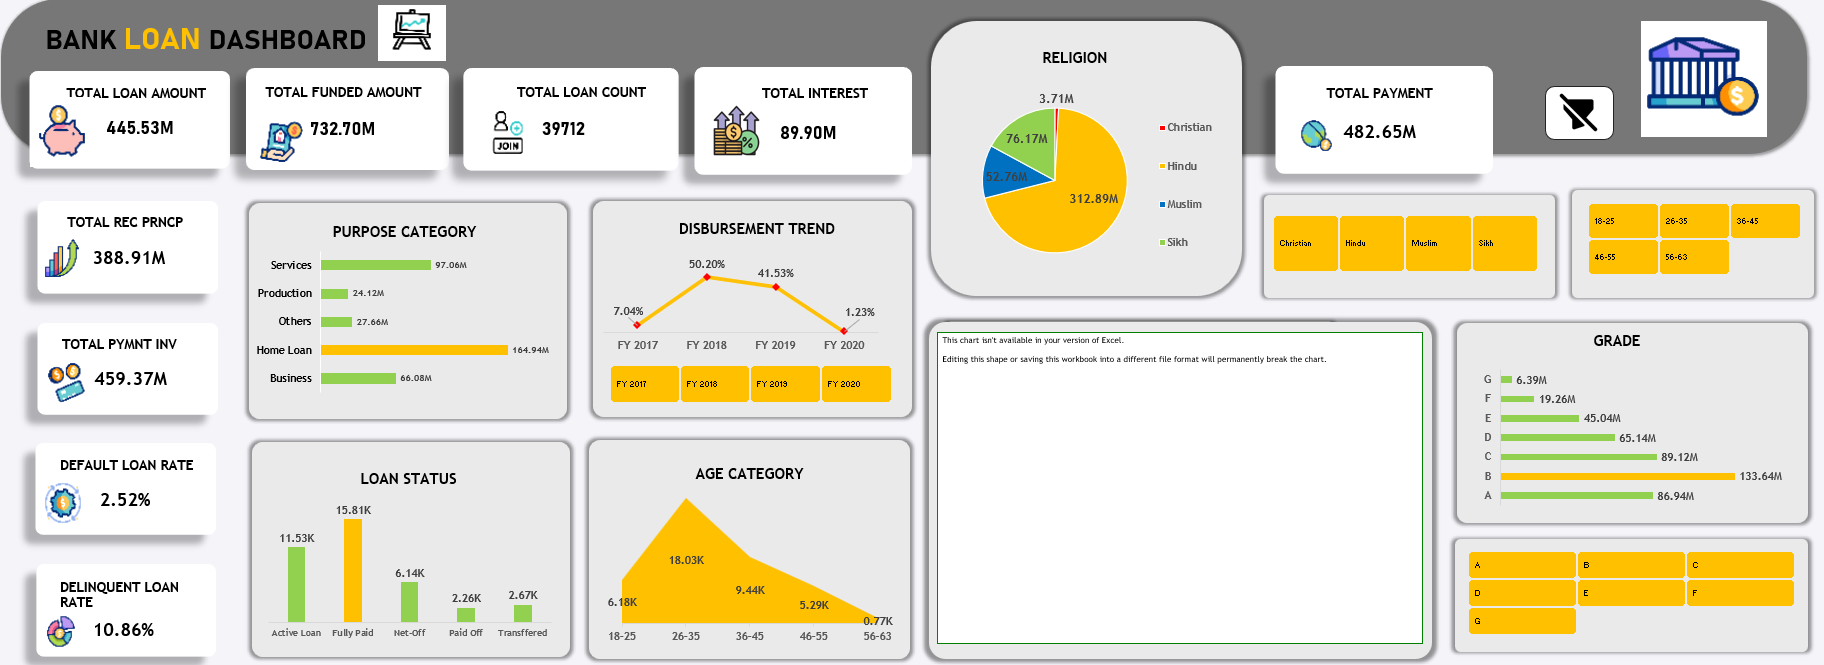

Layout of this report page (visuals, bound fields, positions):
{"tool":"powerbi","page":{"name":"Dashboard","canvas":[1700,900],"ordinal":1},"visuals":[{"type":"shape","box":[14.5,12.9,862.9,156.5],"z":0},{"type":"shape","box":[876.7,8.3,271.7,156.7],"z":1000},{"type":"shape","box":[1148.3,8.3,268.3,156.7],"z":2000},{"type":"shape","box":[1416.7,8.3,270,155],"z":3000},{"type":"shape","box":[1156.7,163.3,530,396.7],"z":4000},{"type":"shape","box":[600,170,560,383.3],"z":5000},{"type":"shape","box":[15,170,585,380],"z":6000},{"type":"shape","box":[641.7,553.3,511.7,330],"z":7000},{"type":"shape","box":[1147.6,565.5,538.4,313.7],"z":8000},{"type":"textbox","box":[37.7,51.3,597.2,117.6],"z":9000},{"type":"card","title":"DGSDGFSDYFGS","fields":{"Values":["Sum(Banking Data.Loan Amount)"]},"box":[935,20,203.3,128.3],"z":10000},{"type":"card","fields":{"Values":["Sum(Banking Data.Total Rrec int)"]},"box":[1220,21.7,188.3,126.7],"z":11000},{"type":"card","fields":{"Values":["Banking Data.Total Rrec int plus Total Rec Prncp"]},"box":[1483.3,25,191.7,118.3],"z":12000},{"type":"pieChart","fields":{"Y":["Sum(Banking Data.Loan Amount)"],"Category":["Banking Data.Religion"]},"box":[655,570,486.7,308.3],"z":13000},{"type":"barChart","fields":{"Y":["Banking Data.COUNT of acc ID"],"Category":["Banking Data.Loan Status"]},"box":[616.7,185,525,353.3],"z":14000},{"type":"columnChart","fields":{"Category":["Banking Data.Age "],"Y":["Banking Data.COUNT of acc ID"]},"box":[31.7,185,555,353.3],"z":15000},{"type":"filledMap","fields":{"Category":["Banking Data.State Name"]},"box":[1173.3,170,486.7,380],"z":16000},{"type":"shape","box":[15,558.3,626.7,320],"z":17000},{"type":"areaChart","fields":{"Category":["Banking Data.Purpose Category"],"Y":["Sum(Banking Data.Loan Amount)"]},"box":[0,580,628.3,285],"z":18000},{"type":"lineChart","fields":{"Category":["Banking Data.Disbursement Date (Years)"],"Y":["Sum(Banking Data.Loan Amount)"]},"box":[1172.6,583.9,487.1,277.4],"z":19000},{"type":"image","box":[647,25.6,125.2,125.2],"z":20000},{"type":"image","box":[1160,28.3,80,81.7],"z":21000},{"type":"image","box":[1423.3,33.3,75,81.7],"z":22000},{"type":"image","box":[898.3,33.3,83.3,73.3],"z":23000},{"type":"image","box":[769.1,54.3,81.4,72.4],"z":24000}]}

Visuals, with their boxes on the page's 1700x900 design canvas (x1, y1, x2, y2). These are canvas units, not pixel positions in the 1824x665 screenshot, which may show the page scaled, cropped or inside an application window:
shape: 14/13/877/169
shape: 877/8/1148/165
shape: 1148/8/1417/165
shape: 1417/8/1687/163
shape: 1157/163/1687/560
shape: 600/170/1160/553
shape: 15/170/600/550
shape: 642/553/1153/883
shape: 1148/566/1686/879
textbox: 38/51/635/169
"DGSDGFSDYFGS" card: 935/20/1138/148
card - Sum(Banking Data.Total Rrec int): 1220/22/1408/148
card - Banking Data.Total Rrec int plus Total Rec Prncp: 1483/25/1675/143
pieChart - Sum(Banking Data.Loan Amount) x Banking Data.Religion: 655/570/1142/878
barChart - Banking Data.COUNT of acc ID x Banking Data.Loan Status: 617/185/1142/538
columnChart - Banking Data.Age  x Banking Data.COUNT of acc ID: 32/185/587/538
filledMap - Banking Data.State Name: 1173/170/1660/550
shape: 15/558/642/878
areaChart - Banking Data.Purpose Category x Sum(Banking Data.Loan Amount): 0/580/628/865
lineChart - Banking Data.Disbursement Date (Years) x Sum(Banking Data.Loan Amount): 1173/584/1660/861
image: 647/26/772/151
image: 1160/28/1240/110
image: 1423/33/1498/115
image: 898/33/982/107
image: 769/54/850/127
